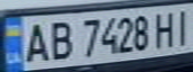2: (115, 14, 136, 54)
4: (100, 13, 121, 55)
7: (75, 16, 103, 57)
8: (133, 11, 154, 52)
A: (18, 19, 51, 64)
B: (45, 18, 75, 62)
H: (151, 8, 178, 48)
I: (172, 6, 193, 46)
